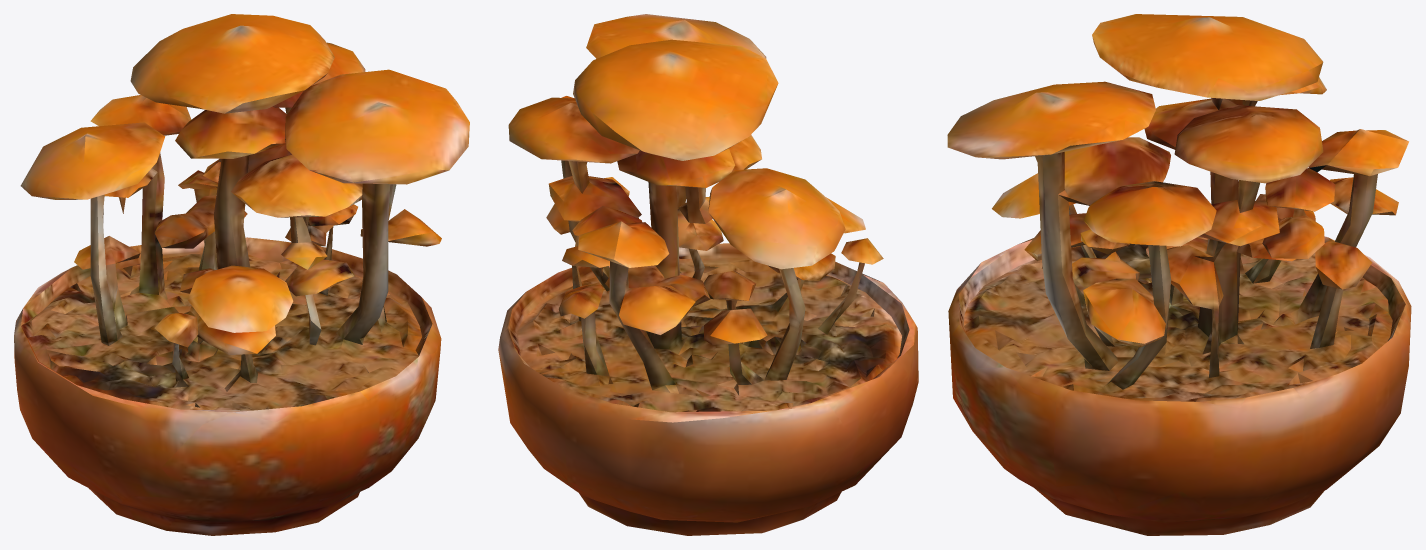
Rendered from mushroom_bowl_orange_lod0.glb.
The picture shows the model from 3 angles, left to right: view 1: azimuth 30°, elevation 25°; view 2: azimuth 150°, elevation 25°; view 3: azimuth 270°, elevation 25°; orthographic projection. The views are drawn at different scales.
Parts seen in each view (by area): view 1: mushroom_bowl_orange_lod0; view 2: mushroom_bowl_orange_lod0; view 3: mushroom_bowl_orange_lod0.
Part boxes in pixels (x1,y1,x2,y2): mushroom_bowl_orange_lod0: [14, 14, 469, 535]; mushroom_bowl_orange_lod0: [498, 14, 918, 535]; mushroom_bowl_orange_lod0: [947, 14, 1411, 535].
Bounding box in the file's own units: 0.3775 × 0.4002 × 0.3569.
1 material, 1 textured.
